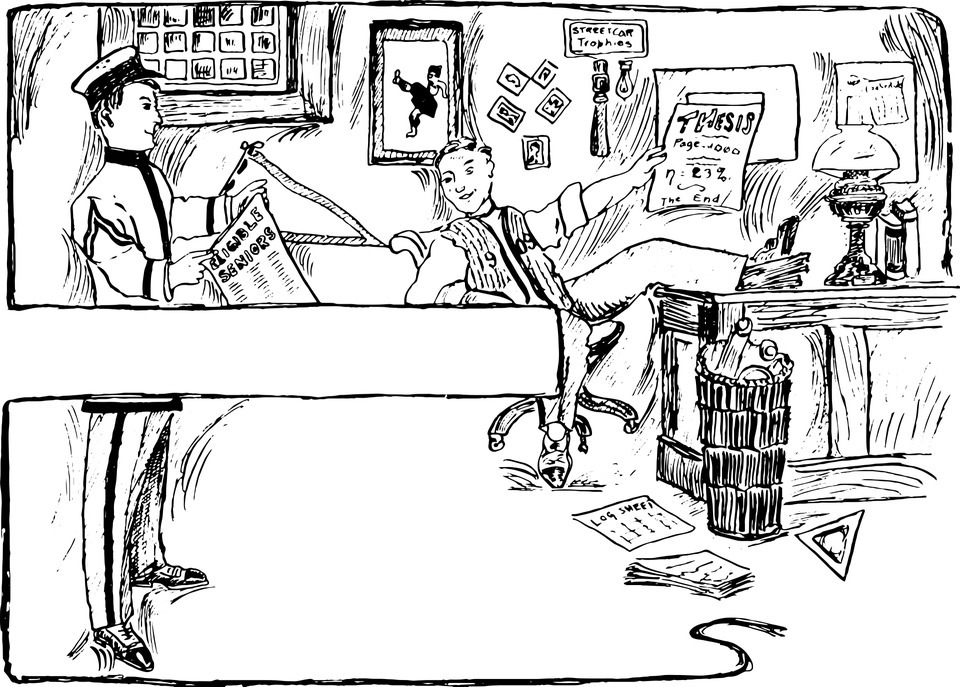chair: (383, 217, 645, 456)
person: (396, 134, 791, 489), (60, 45, 236, 682), (388, 56, 452, 141)
